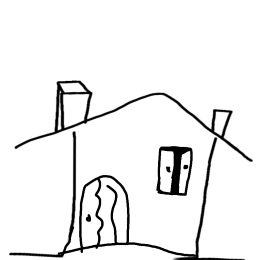bottom_placed_house: (0, 0, 260, 260)
chimney: (46, 67, 96, 139), (204, 96, 240, 148)
closed_window: (155, 140, 198, 202)
door: (75, 172, 139, 256)
single_line_roof: (7, 75, 255, 166)
wall: (55, 125, 222, 257)
